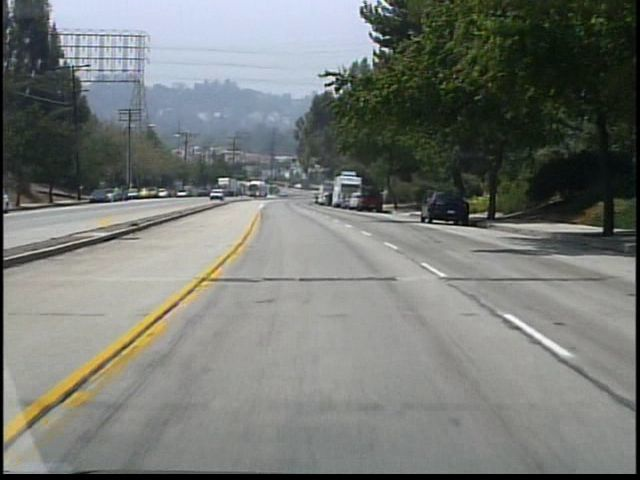person: (380, 183, 391, 209)
